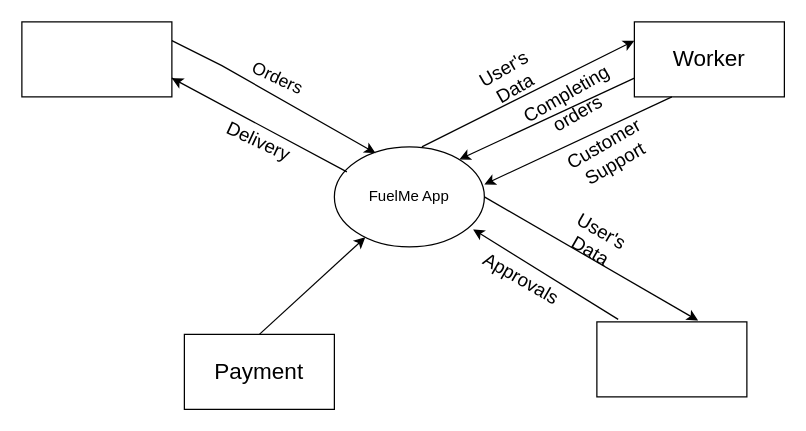
The diagram is 806 pixels wide and 431 high, and some of its shapes have lost their labels. Here are the shapes that lost their labels. From the top down, the centre of each, then its label:
At [96,59]: "User".
At [671,359]: "Admin".
